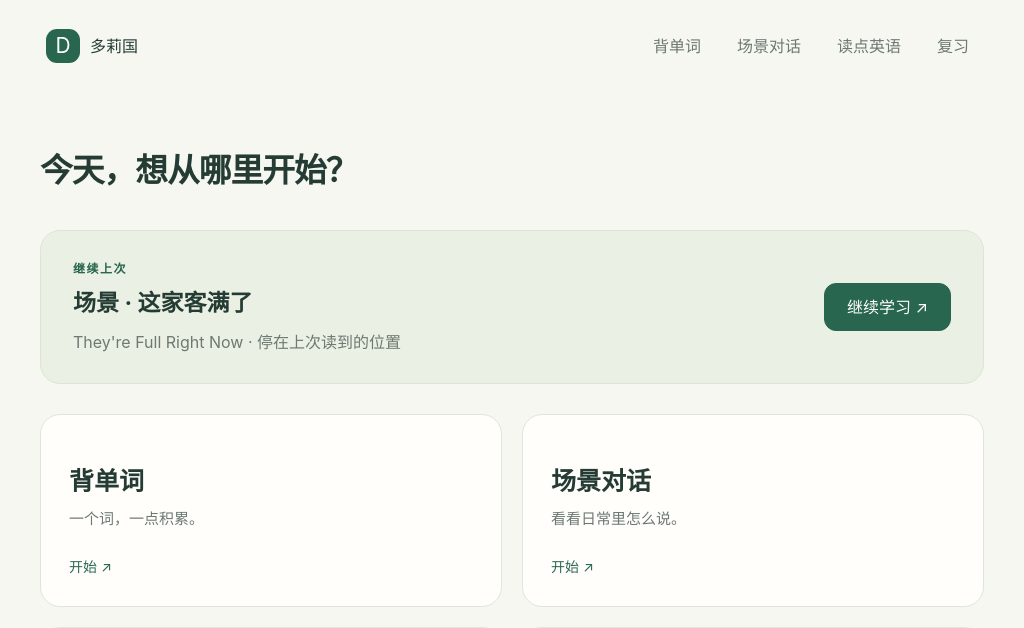
Scenario: opens incremental scene scene-restaurant-is-full from home resume
What coordinates should you click on to do the following:
click the button "继续学习 ↗"
I would click on:
 (888, 307)
Its box is [824,283,951,332].
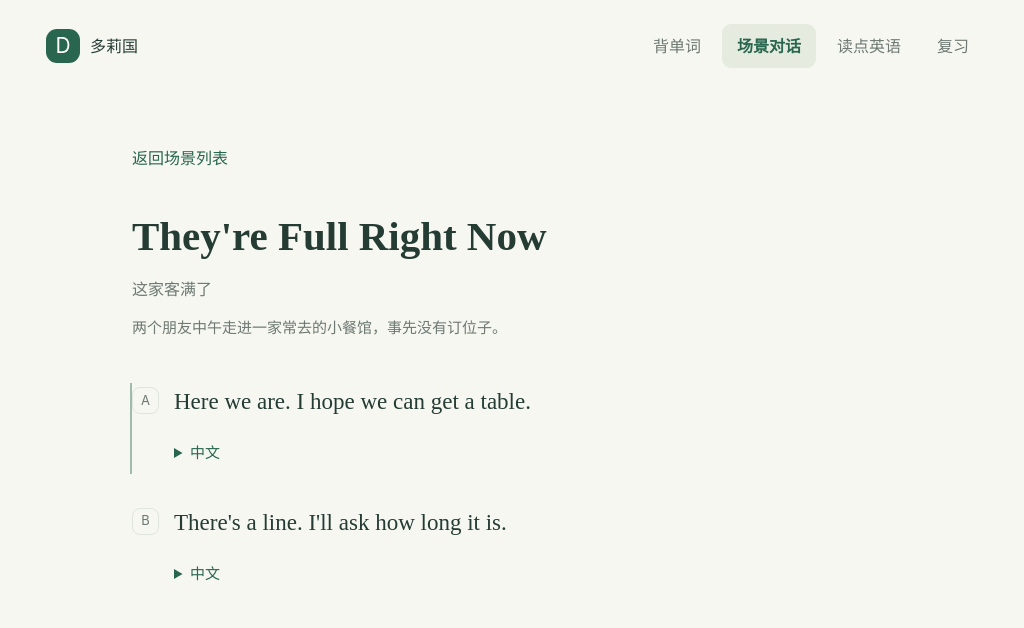
Expected: the heading "They're Full Right Now" is shown, [132,213,546,259]
